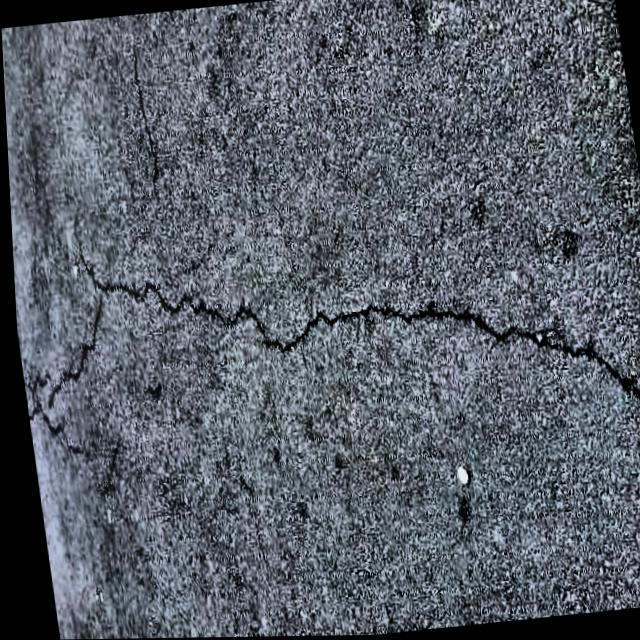cracks: (26, 254, 640, 416)
